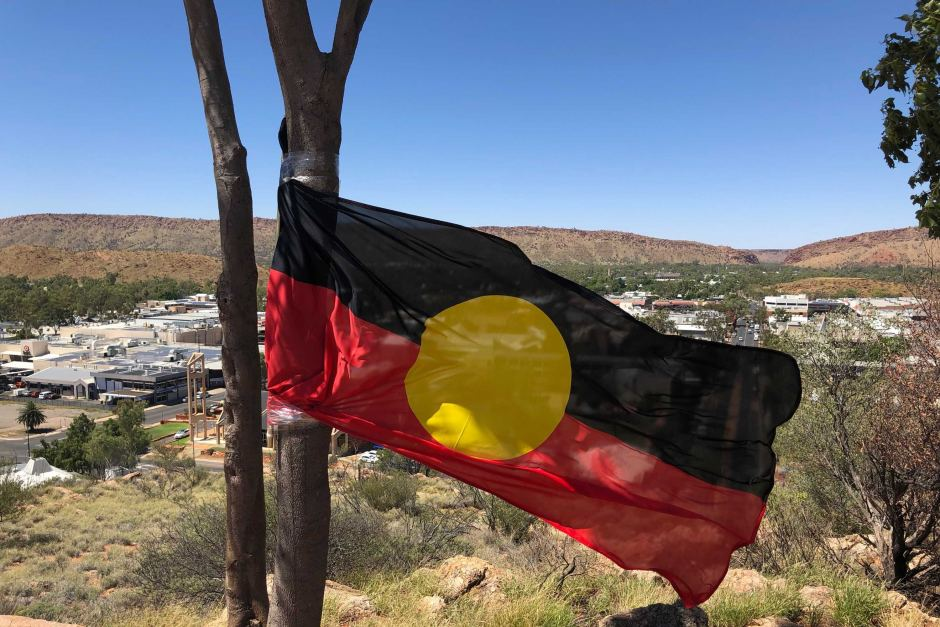aboriginal_flag: (258, 173, 816, 623)
